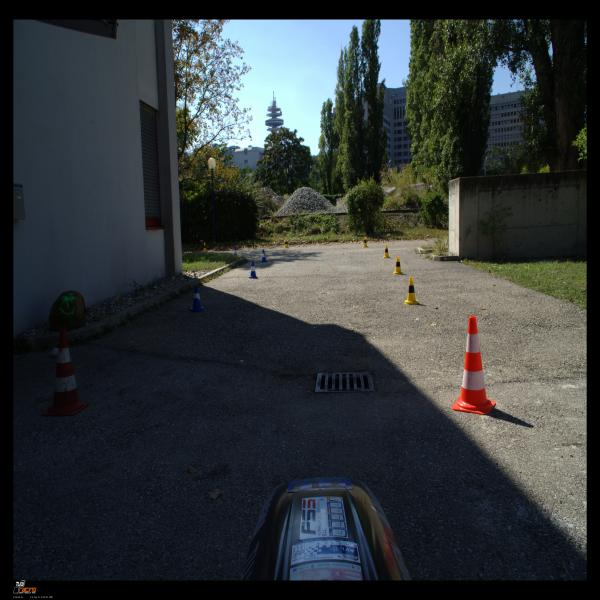blue_cone: (190, 285, 204, 312), (248, 262, 258, 278), (260, 250, 268, 262), (234, 246, 237, 256)
large_orange_cone: (452, 315, 496, 415), (42, 328, 88, 415)
yellow_cone: (404, 277, 419, 305), (393, 256, 403, 275), (382, 245, 390, 258), (362, 236, 369, 248), (202, 242, 208, 252), (284, 238, 288, 248)
